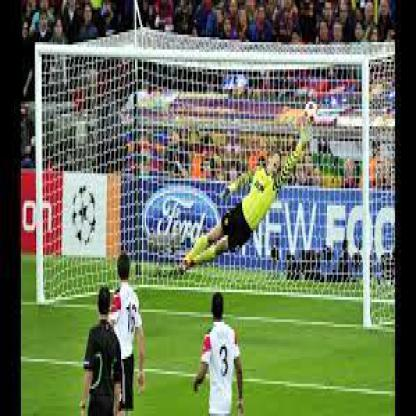goal: (247, 16, 334, 273)
